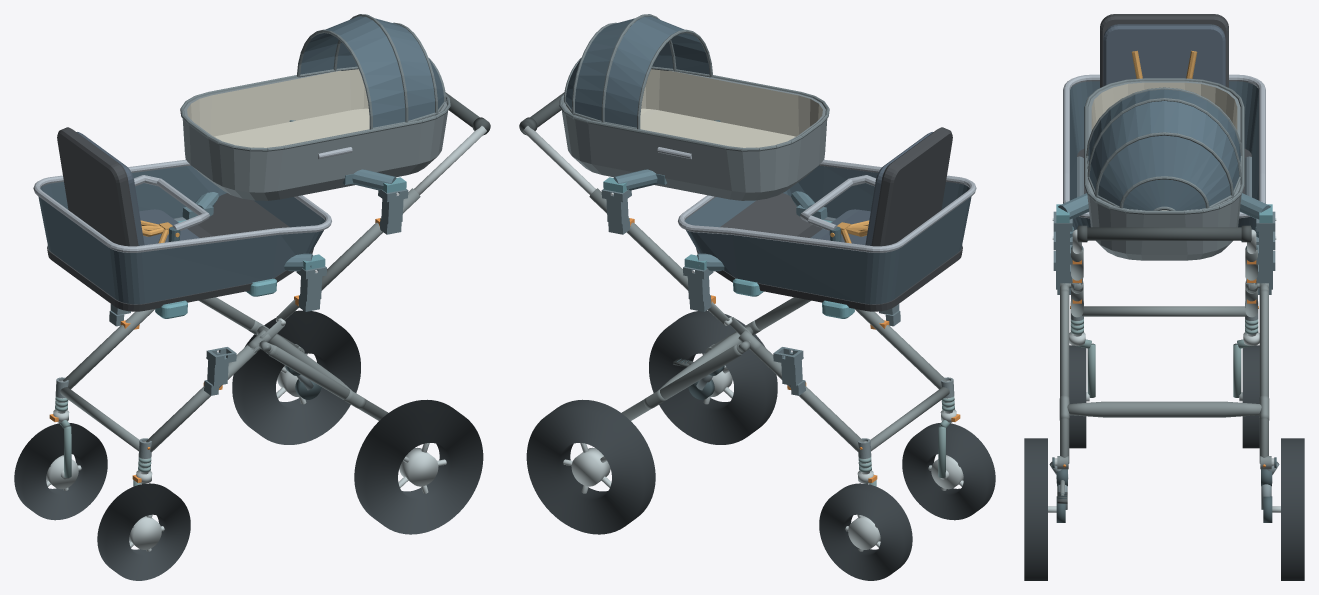
The model's file is D21_w550_state1_wheel_L.glb.
3 views of the same model, side by side, from view 1: azimuth 30°, elevation 25°; view 2: azimuth 150°, elevation 25°; view 3: azimuth 270°, elevation 25° (orthographic). The views are drawn at different scales.
Visible parts, largest first — view 1: D21_Upper, D21_Lower, RL_tire.002, RR_tire.002, FL_tire.002, FR_tire.002, V46_rear_leg_-1.003, main_lower_-1.003, main_lower_1.003, main_upper_-1.003, D21_Lower_Mount_M, RL_sealed_hub.002 (+10 smaller); view 2: D21_Upper, D21_Lower, RR_tire.002, RL_tire.002, FR_tire.002, FL_tire.002, V46_rear_leg_1.003, main_lower_1.003, main_lower_-1.003, main_upper_1.003, RR_sealed_hub.002, D21_Lower_Mount_M (+10 smaller); view 3: D21_Upper, D21_Lower, RL_tire.002, RR_tire.002, V46_rearbar.003, round_handle.002, front_fixed_round_tube.002, FL_tire.002, FR_tire.002, V46_rear_leg_1.003, V46_rear_leg_-1.003, D21_Upper_Mount_H (+6 smaller).
Part boxes in pixels (<box>): D21_Upper: <box>180,14,450,200</box>; D21_Lower: <box>33,127,331,318</box>; RL_tire.002: <box>354,399,483,534</box>; RR_tire.002: <box>232,310,360,444</box>; FL_tire.002: <box>97,483,190,580</box>; FR_tire.002: <box>14,423,107,520</box>; V46_rear_leg_-1.003: <box>268,345,388,420</box>; main_lower_-1.003: <box>146,345,259,452</box>; main_lower_1.003: <box>63,309,155,389</box>; main_upper_-1.003: <box>321,188,420,290</box>; D21_Lower_Mount_M: <box>182,192,325,273</box>; RL_sealed_hub.002: <box>399,447,438,486</box>; D21_Upper: <box>559,14,829,200</box>; D21_Lower: <box>678,127,976,318</box>; RR_tire.002: <box>526,399,655,534</box>; RL_tire.002: <box>649,310,777,444</box>; FR_tire.002: <box>819,483,912,580</box>; FL_tire.002: <box>902,423,995,520</box>; V46_rear_leg_1.003: <box>621,345,741,420</box>; main_lower_1.003: <box>750,345,863,452</box>; main_lower_-1.003: <box>854,309,946,389</box>; main_upper_1.003: <box>589,188,688,290</box>; RR_sealed_hub.002: <box>571,447,610,486</box>; D21_Lower_Mount_M: <box>684,191,827,273</box>; D21_Upper: <box>1084,78,1244,260</box>; D21_Lower: <box>1063,14,1265,241</box>; RL_tire.002: <box>1024,438,1047,580</box>; RR_tire.002: <box>1281,438,1304,580</box>; V46_rearbar.003: <box>1067,401,1261,417</box>; round_handle.002: <box>1077,227,1251,240</box>; front_fixed_round_tube.002: <box>1082,306,1246,316</box>; FL_tire.002: <box>1069,345,1086,448</box>; FR_tire.002: <box>1242,345,1259,448</box>; V46_rear_leg_1.003: <box>1259,289,1268,463</box>; V46_rear_leg_-1.003: <box>1060,289,1069,463</box>; D21_Upper_Mount_H: <box>1052,193,1276,222</box>.
Bounding box in the file's own units: 1.19 × 1.35 × 0.7071.
